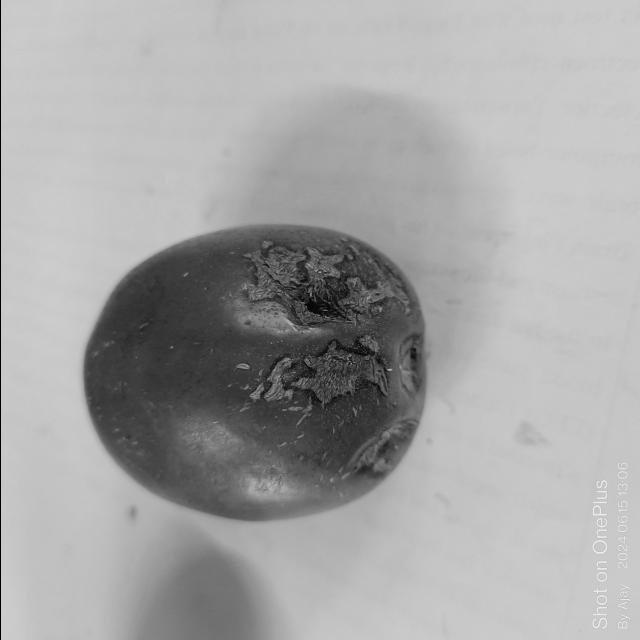Bacterial_Spot: (230, 240, 402, 332), (244, 348, 384, 409), (346, 424, 416, 482)
